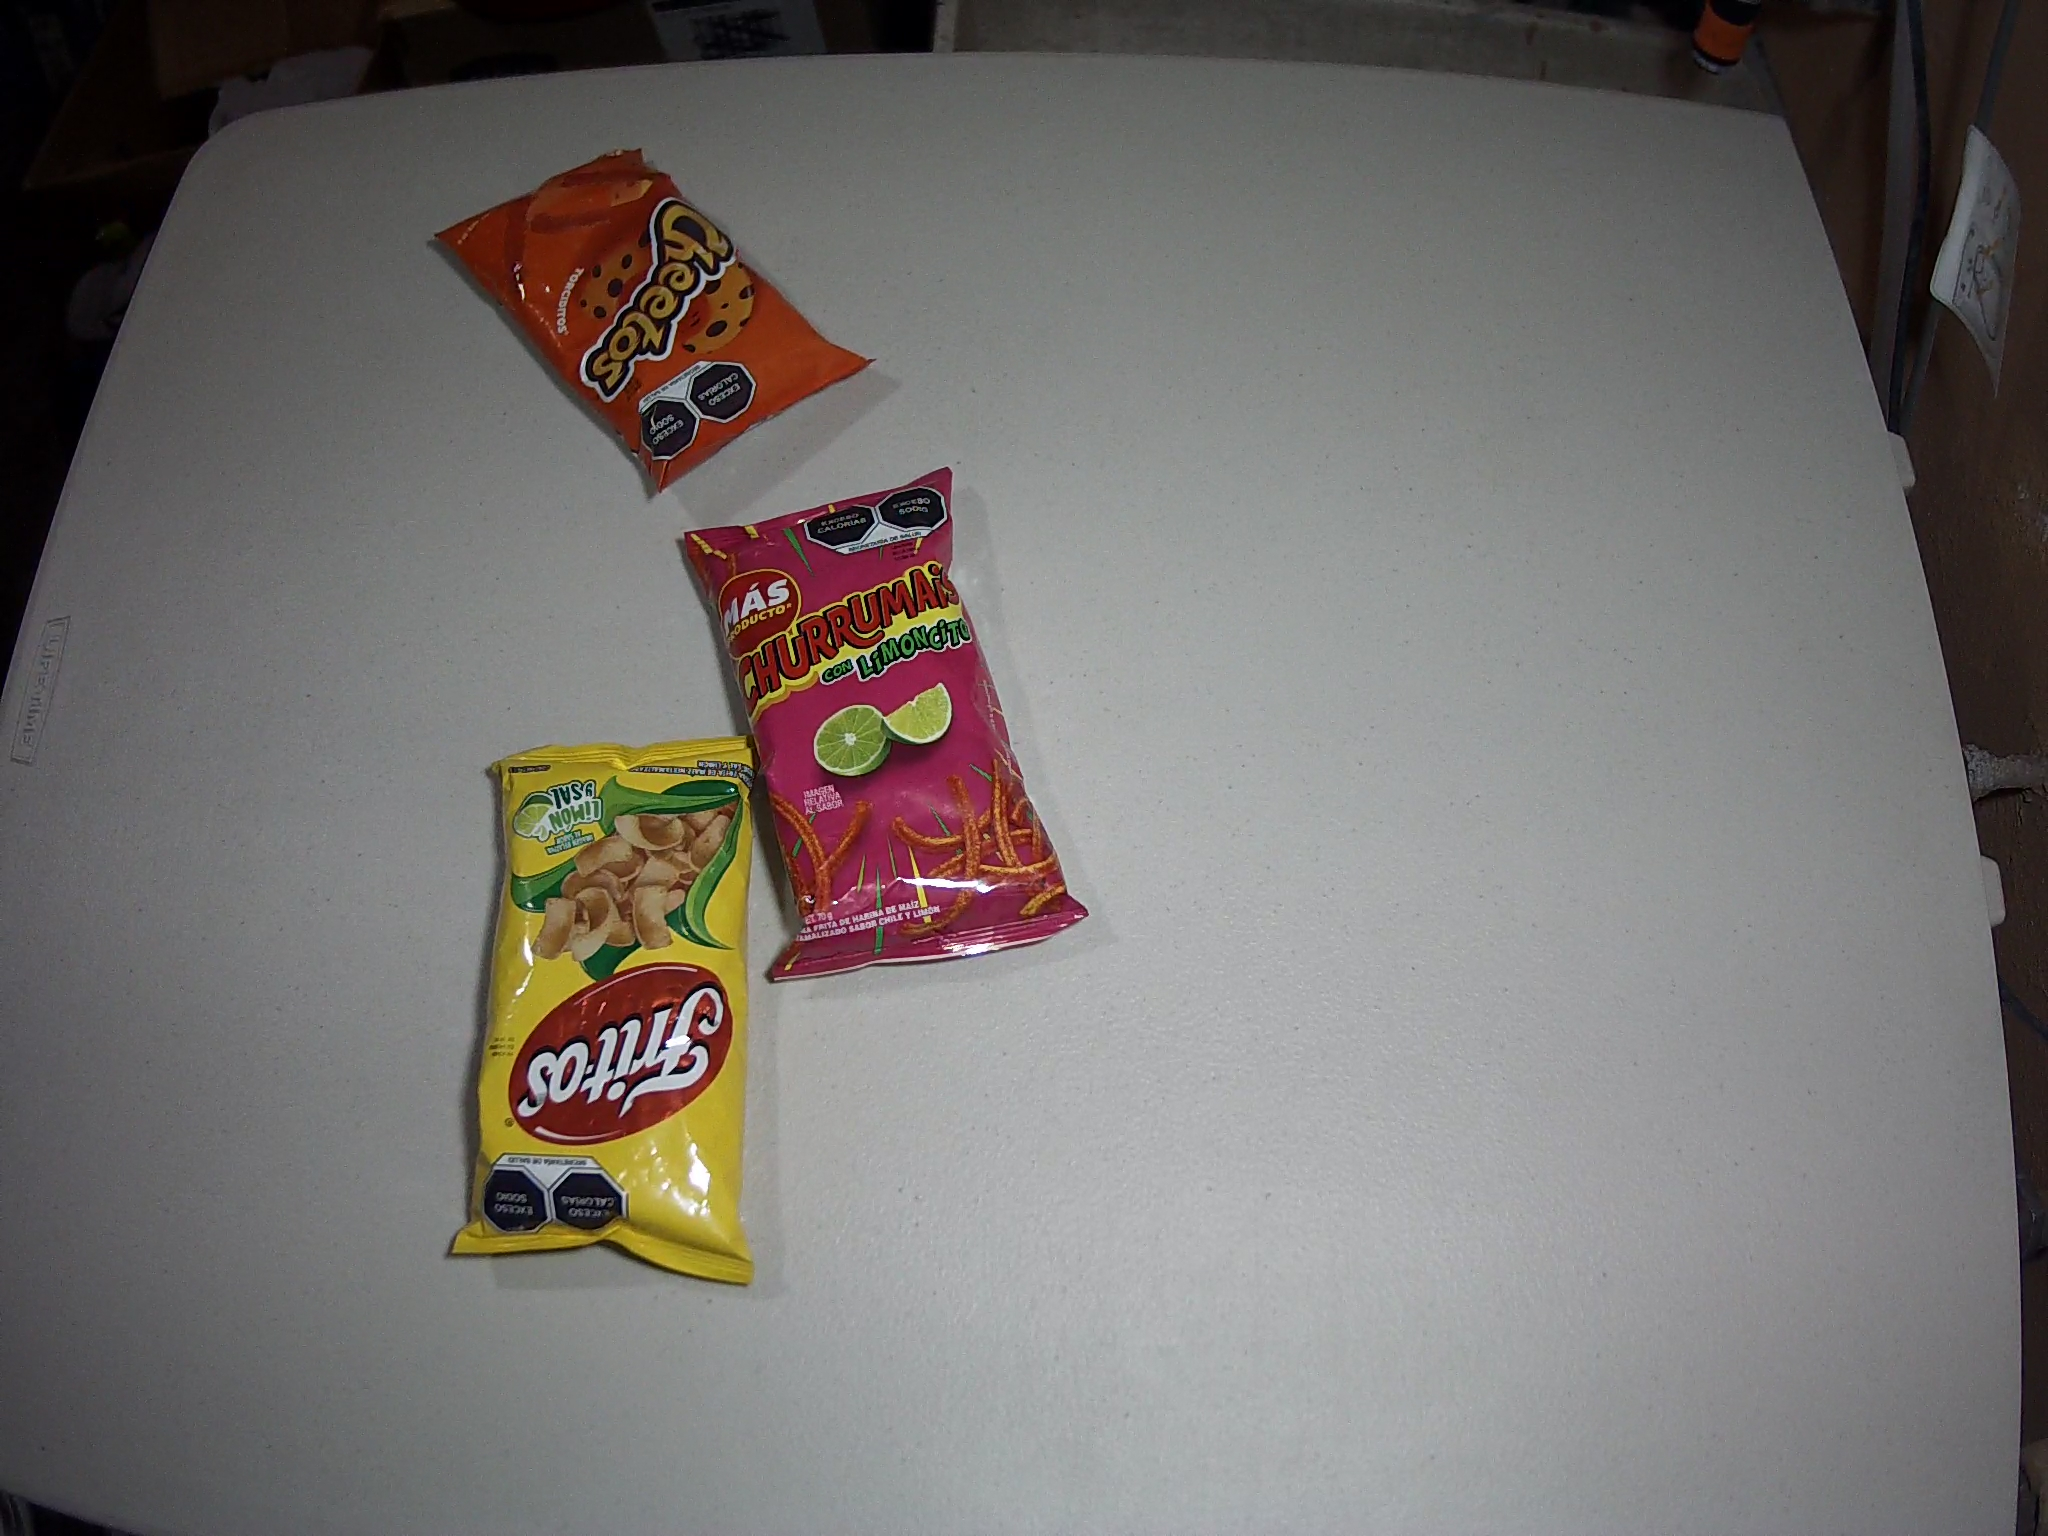CheetosTorciditos_55_F: (435, 147, 880, 494)
Churrumais_70_F: (684, 465, 1092, 986)
FritosSalLimon_65_F: (452, 731, 771, 1284)
